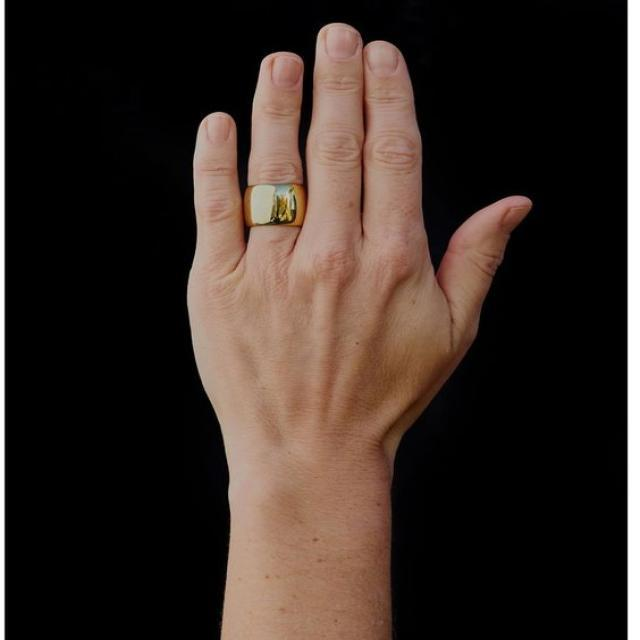Fingernail: (366, 43, 398, 80), (271, 55, 302, 88), (327, 27, 359, 58), (502, 208, 530, 236), (207, 117, 230, 143)
